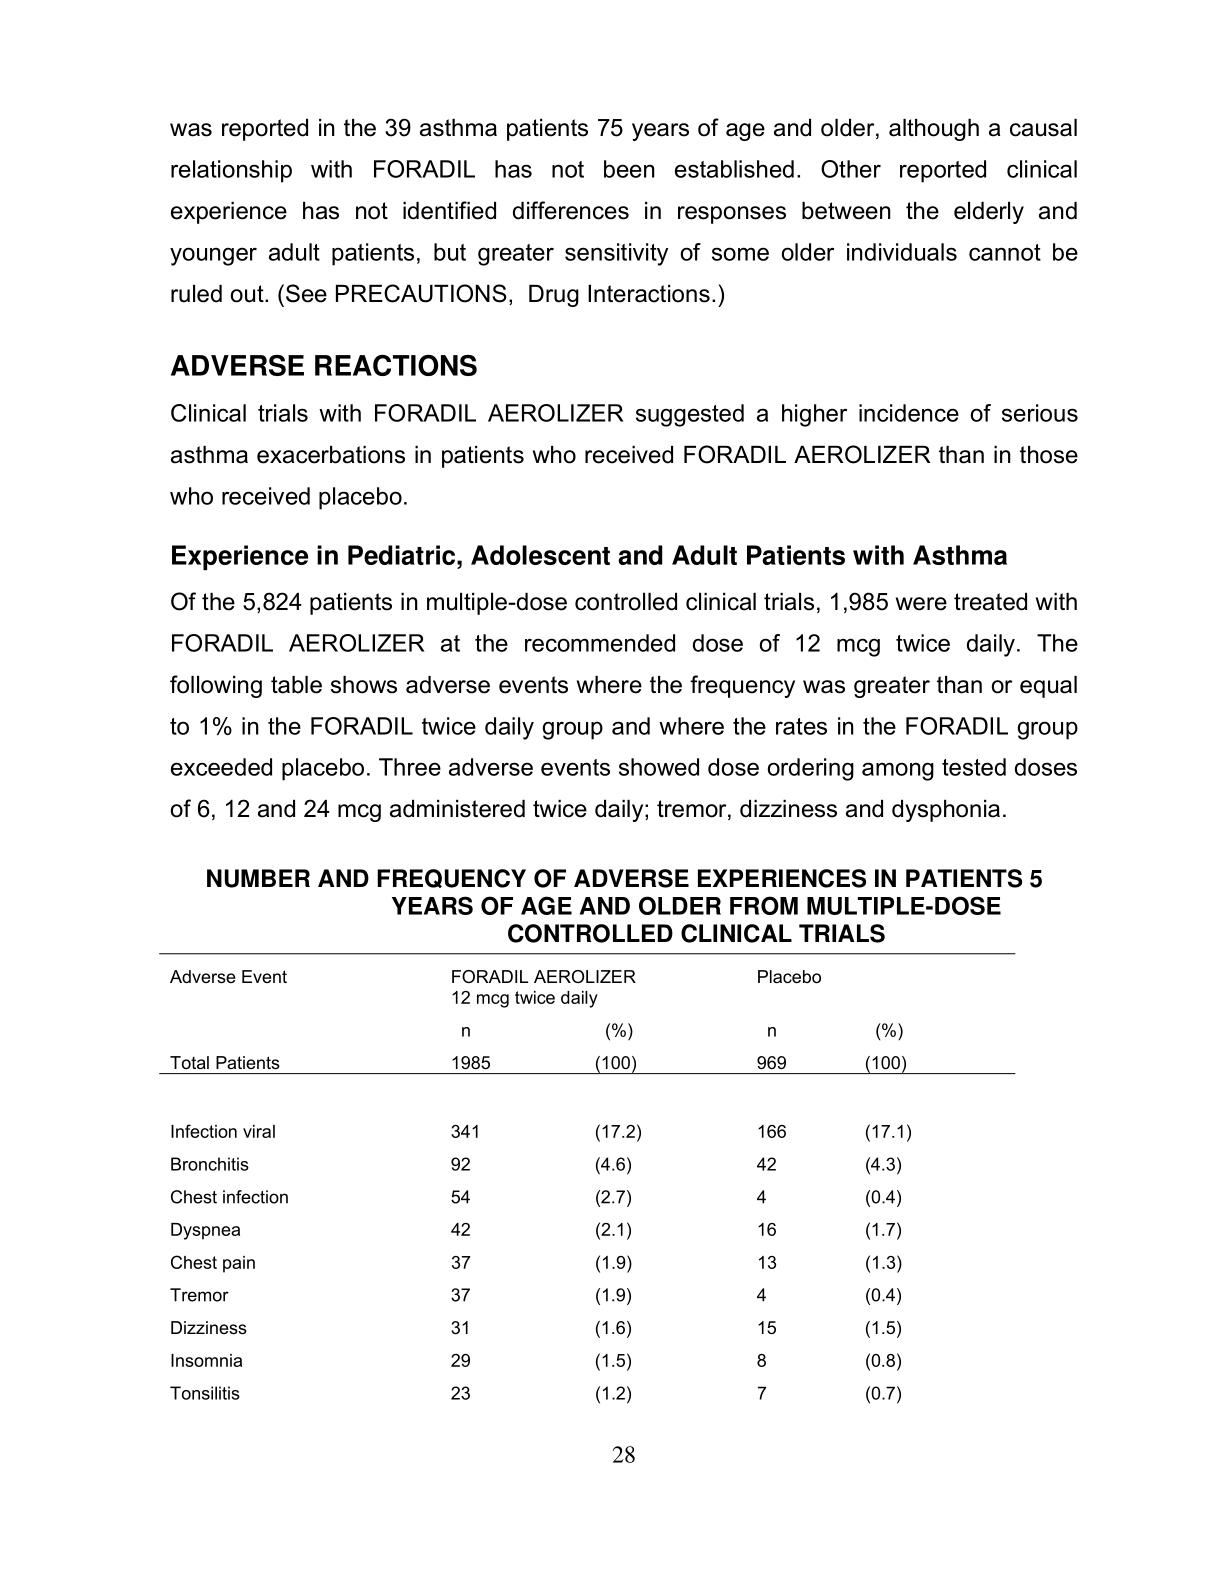partial_lined_merged_cells: (153, 949, 1017, 1410)
